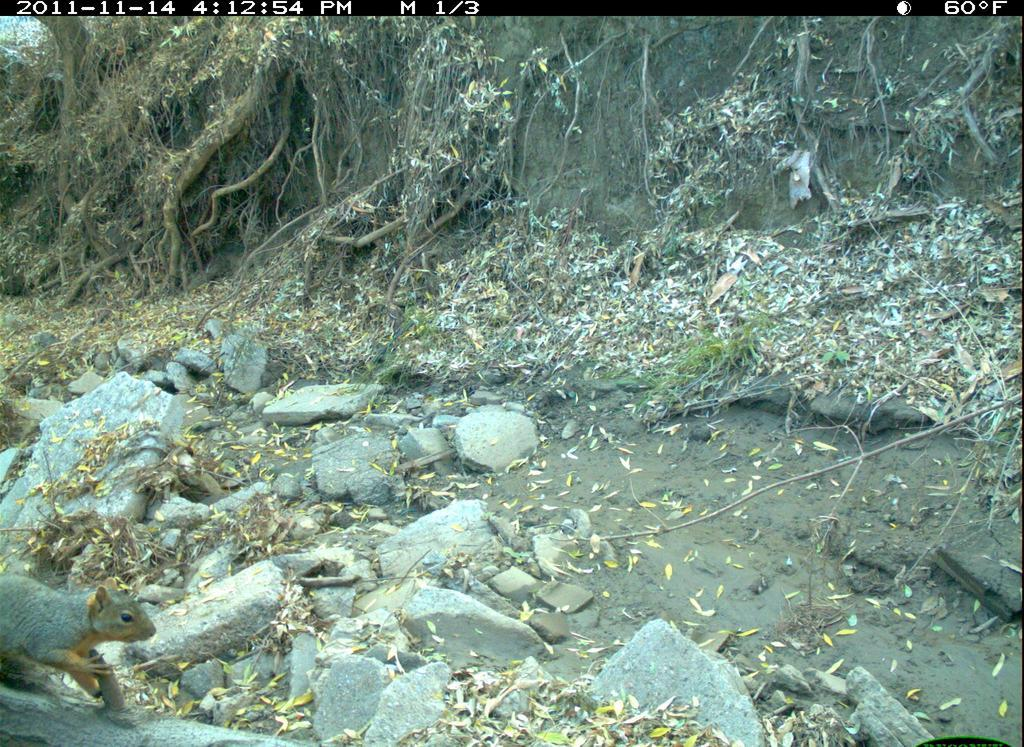squirrel: (4, 573, 154, 706)
